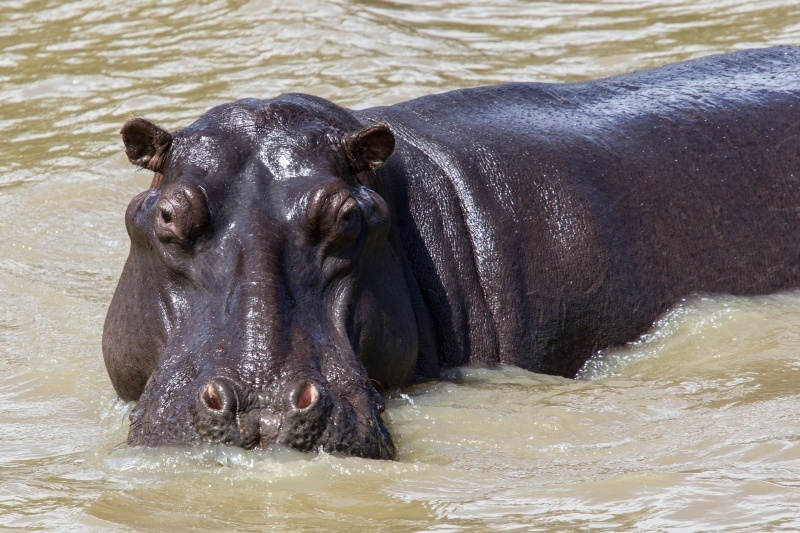hipopotamo: (90, 33, 800, 477)
